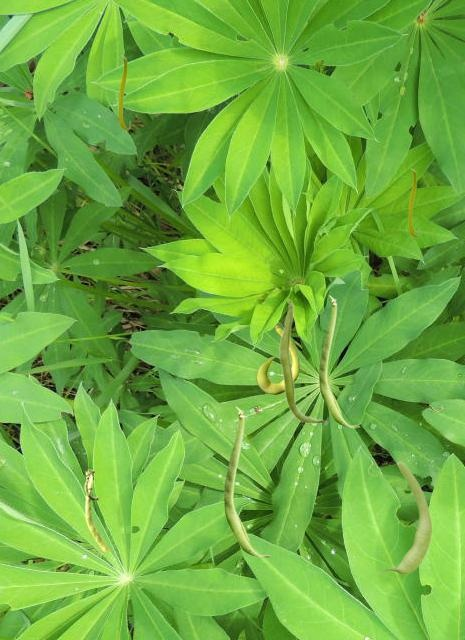french_bean: (224, 406, 270, 557), (278, 298, 327, 424), (378, 460, 431, 573), (319, 295, 359, 427), (256, 325, 298, 393), (84, 469, 109, 550), (118, 55, 129, 129), (408, 168, 418, 236)
